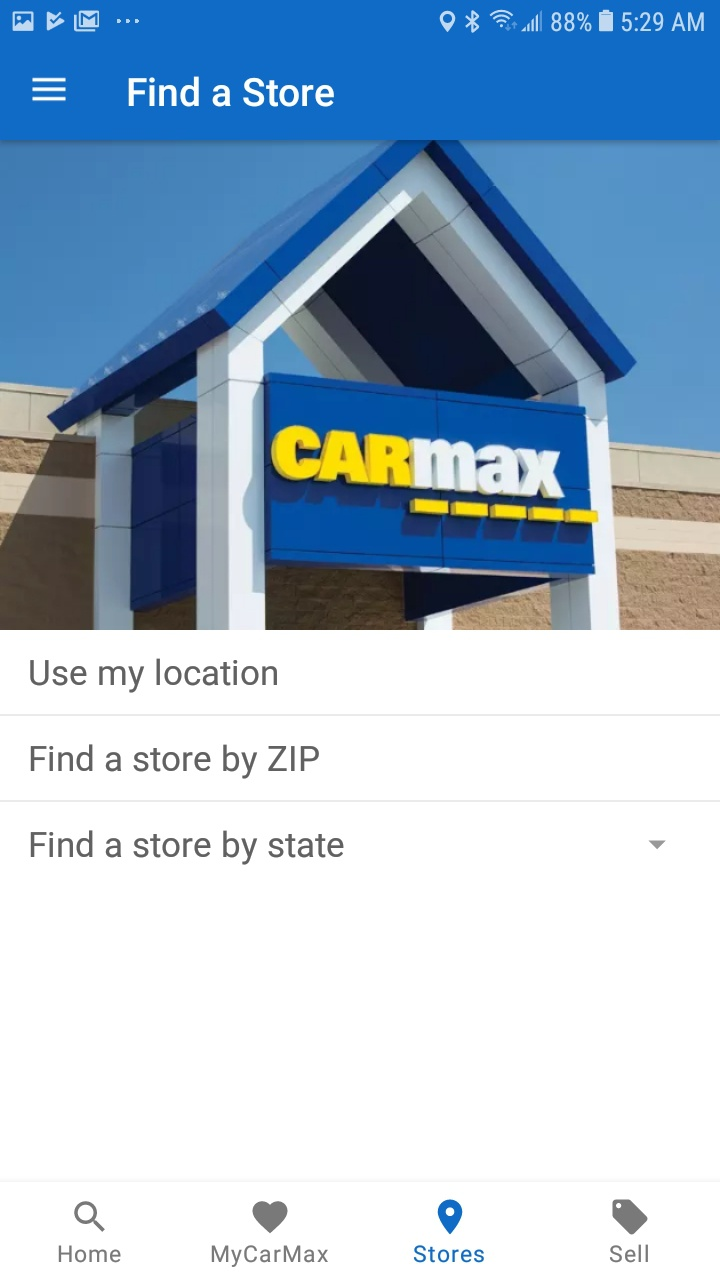Icon: (612, 1198, 649, 1235), (252, 1200, 289, 1234), (75, 1201, 107, 1233), (32, 77, 68, 103), (438, 1199, 463, 1235), (648, 839, 667, 850)
Image: (1, 141, 720, 631)
Text: (30, 829, 345, 866), (31, 744, 321, 780), (30, 657, 278, 694), (128, 76, 335, 109), (212, 1244, 329, 1268), (414, 1244, 485, 1263), (58, 1244, 122, 1263), (610, 1243, 649, 1263)
UpperTaskBar: (1, 1, 720, 43)
